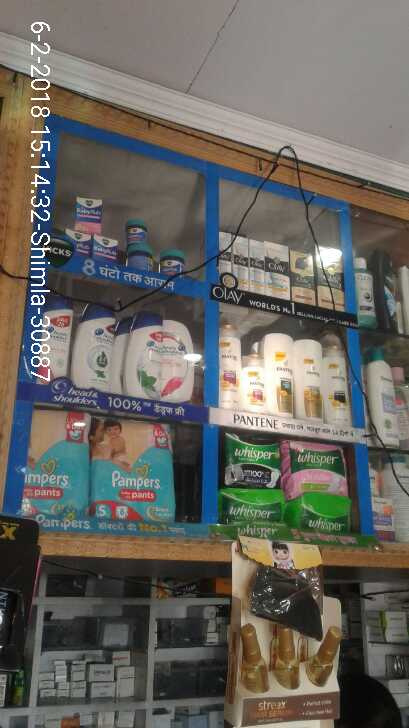beauty: (210, 226, 349, 314), (74, 304, 118, 397), (125, 316, 163, 405), (158, 313, 195, 403), (36, 297, 72, 383), (290, 338, 320, 425), (260, 332, 291, 412), (321, 347, 350, 431), (210, 328, 240, 407), (237, 351, 264, 409)
pharmacy: (46, 189, 186, 281), (84, 414, 176, 520), (30, 408, 87, 519), (279, 433, 351, 499), (224, 425, 281, 489), (223, 489, 284, 524), (300, 504, 361, 533)
